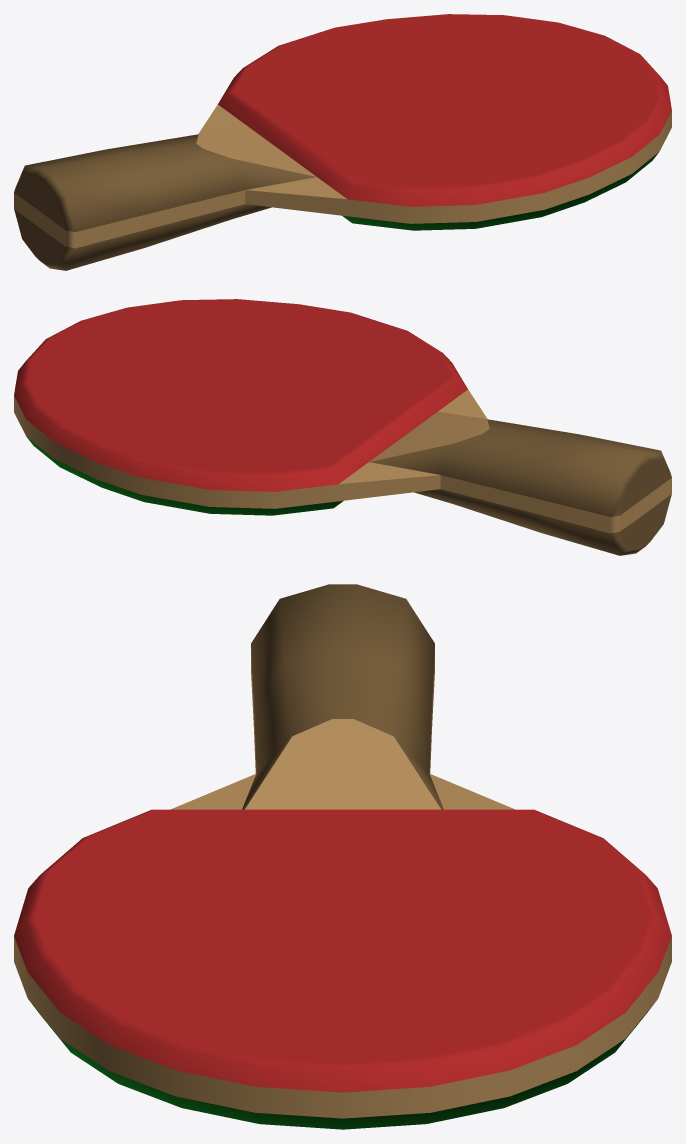
File: Entity_PingPongPaddle.FBX
3 views of the same model, one above another, from view 1: azimuth 30°, elevation 25°; view 2: azimuth 150°, elevation 25°; view 3: azimuth 270°, elevation 25° (orthographic). The views are drawn at different scales.
Visible parts, largest first — view 1: PingpongPaddle, PaddleHandle; view 2: PingpongPaddle, PaddleHandle; view 3: PingpongPaddle, PaddleHandle.
Part boxes in pixels (x1,y1,x2,y2): PingpongPaddle: [198, 14, 671, 230]; PaddleHandle: [14, 126, 316, 270]; PingpongPaddle: [14, 299, 487, 515]; PaddleHandle: [369, 411, 671, 555]; PingpongPaddle: [14, 774, 671, 1129]; PaddleHandle: [242, 584, 443, 809].
Size of the model in its own units: 154 by 22.81 by 94.68.
